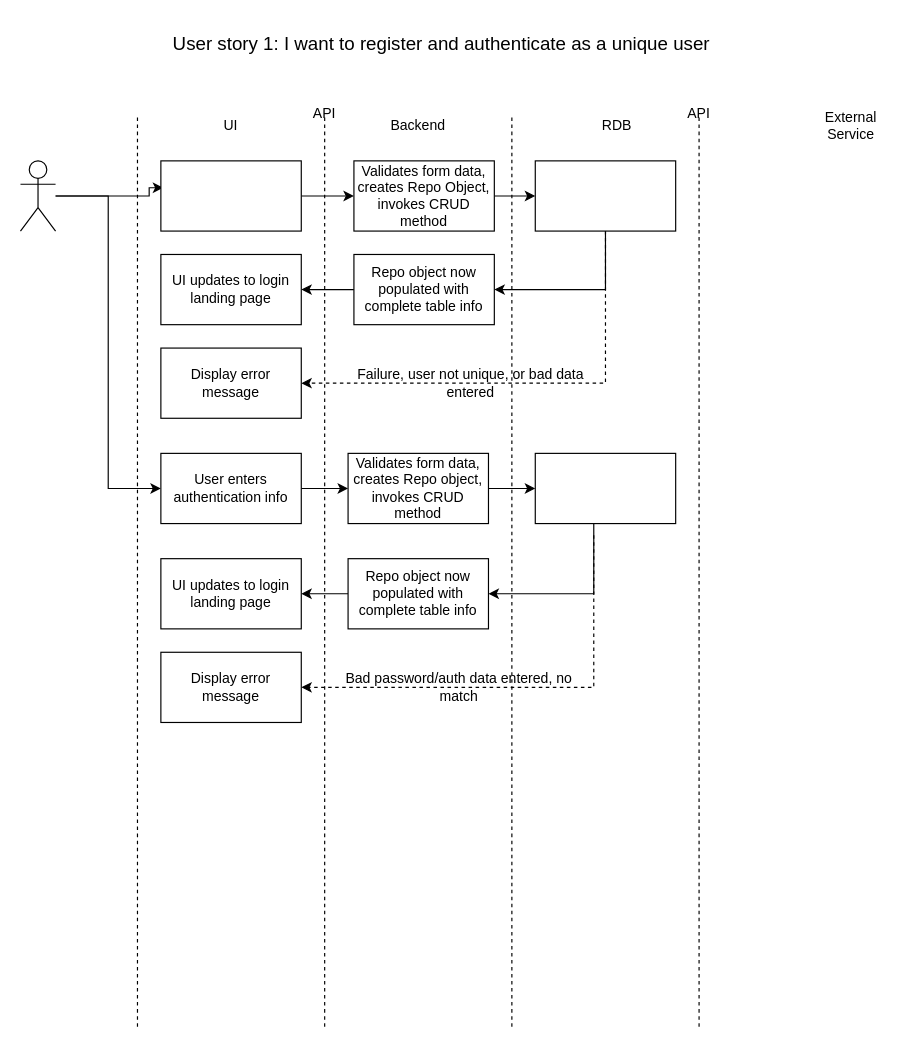
Image size: 897x1048. Some labels were removed from this diagram. Here are the shapes that lost their labels. From the top down, the centre of each, then its label:
point (37, 195): user
point (230, 195): User enters registration info and clicks button
point (605, 195): Checks user uniqueness, adds user
point (605, 488): Authenticates user credentials
